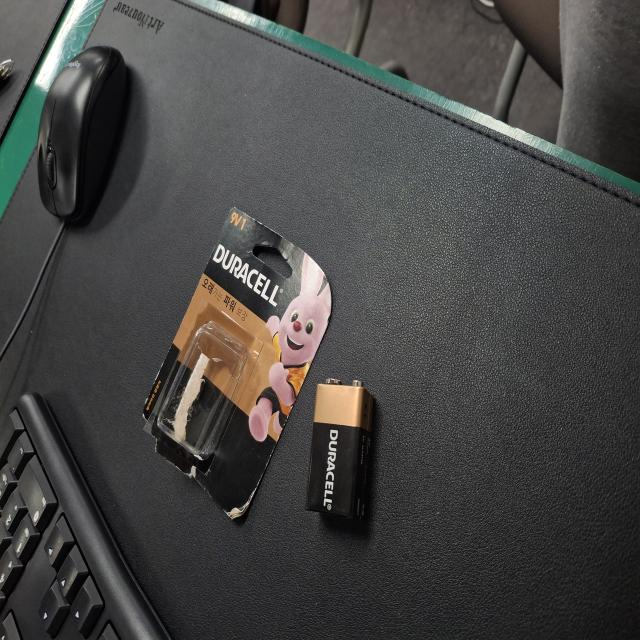9V: (91, 408, 195, 497)
